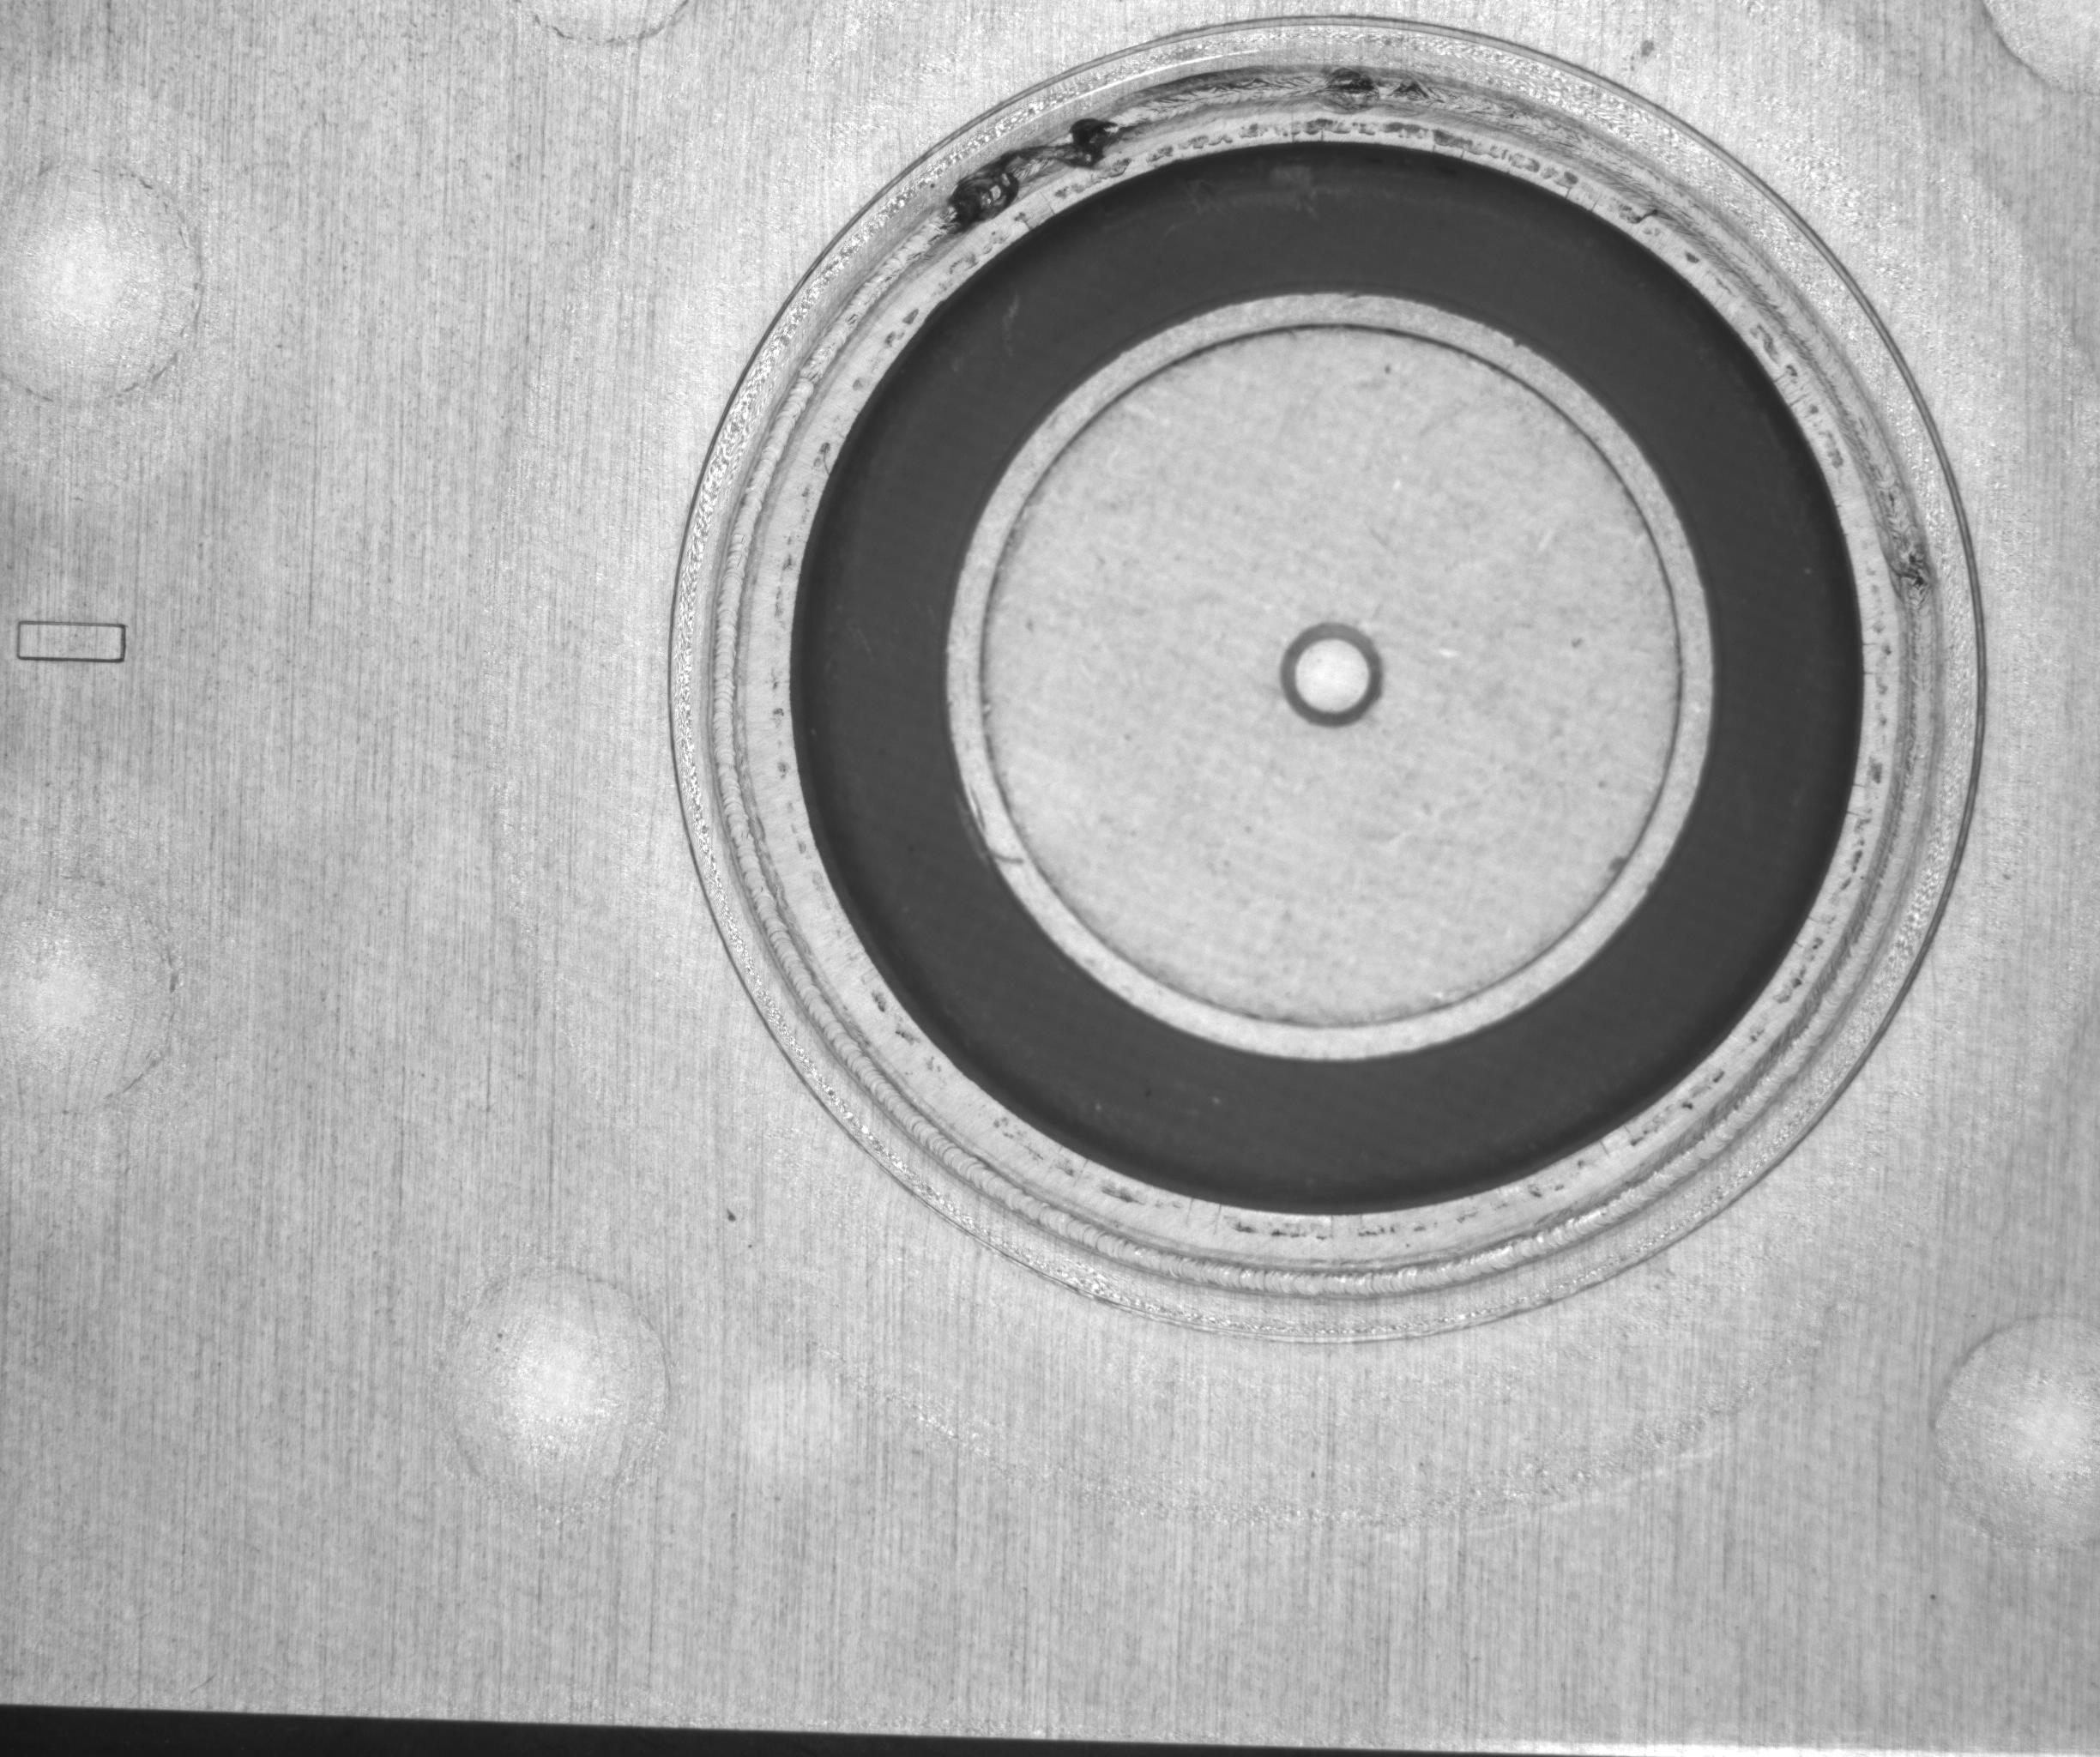continuousholes: (912, 73, 1137, 256)
